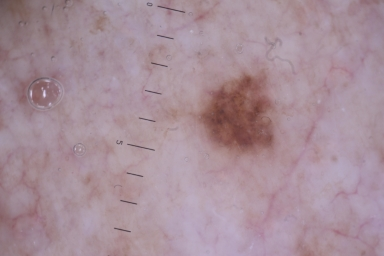melanoma: (198, 74, 279, 153)
